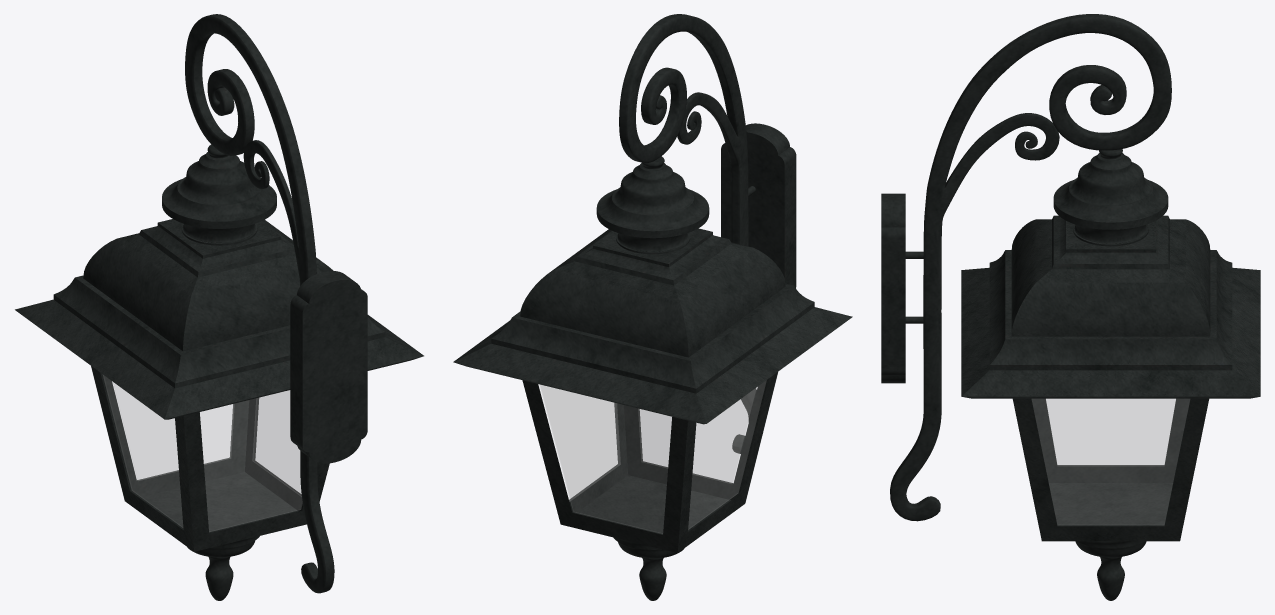
The model's file is wall_lamp.glb.
3 renders of one model, left to right at view 1: azimuth 30°, elevation 25°; view 2: azimuth 150°, elevation 25°; view 3: azimuth 270°, elevation 25°, orthographic. The views are drawn at different scales.
Parts seen in each view (by area): view 1: Plane_0, Plane.001_1; view 2: Plane_0, Plane.001_1; view 3: Plane_0, Plane.001_1.
Boxes of the visible parts, x1,y1,x2,y2 form: Plane_0: [15, 14, 423, 600]; Plane.001_1: [103, 375, 302, 531]; Plane_0: [453, 14, 852, 600]; Plane.001_1: [539, 381, 765, 533]; Plane_0: [881, 14, 1260, 600]; Plane.001_1: [1032, 399, 1189, 524].
Size of the model in its own units: 0.655 by 1.41 by 0.8299.
Materials: 4 (2 with a texture image).
